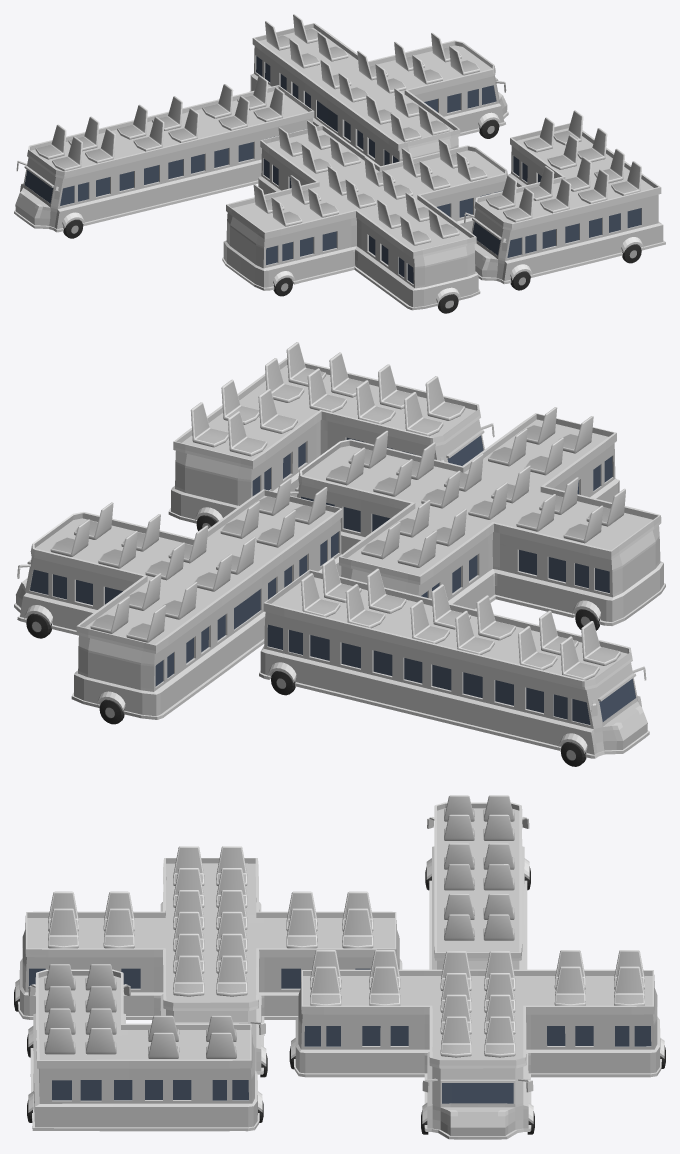
Rendered from All Bus 2.fbx.
The picture shows the model from 3 angles, top to bottom: view 1: azimuth 30°, elevation 25°; view 2: azimuth 150°, elevation 25°; view 3: azimuth 270°, elevation 25°; orthographic projection. The views are drawn at different scales.
Parts seen in each view (by area): view 1: Plus Bus, Bus.006, Double Bus, Plus Bus.001; view 2: Plus Bus, Bus.006, Double Bus, Plus Bus.001; view 3: Double Bus, Plus Bus, Plus Bus.001, Bus.006.
Boxes of the visible parts, bbox=[...] form: Plus Bus: bbox=[222, 120, 517, 313]; Bus.006: bbox=[14, 75, 314, 238]; Double Bus: bbox=[249, 14, 508, 166]; Plus Bus.001: bbox=[464, 110, 665, 290]; Plus Bus: bbox=[290, 407, 665, 630]; Bus.006: bbox=[259, 557, 649, 766]; Double Bus: bbox=[14, 478, 342, 724]; Plus Bus.001: bbox=[168, 342, 494, 530]; Double Bus: bbox=[289, 950, 665, 1139]; Plus Bus: bbox=[14, 846, 402, 1077]; Plus Bus.001: bbox=[27, 964, 263, 1131]; Bus.006: bbox=[425, 795, 530, 969].
Size of the model in its own units: 1899 by 330 by 1874.
